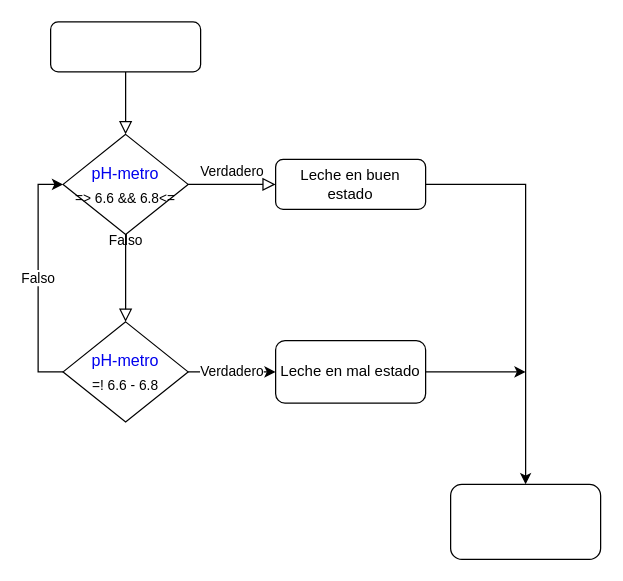
This 623x581 diagram has some shape labels left out. Here are the shapes that lost their labels. From the top down, the centre of each, then its label:
At (x=125, y=46): "Jarra de Leche".
At (x=525, y=521): "Notificacion del Estado".
